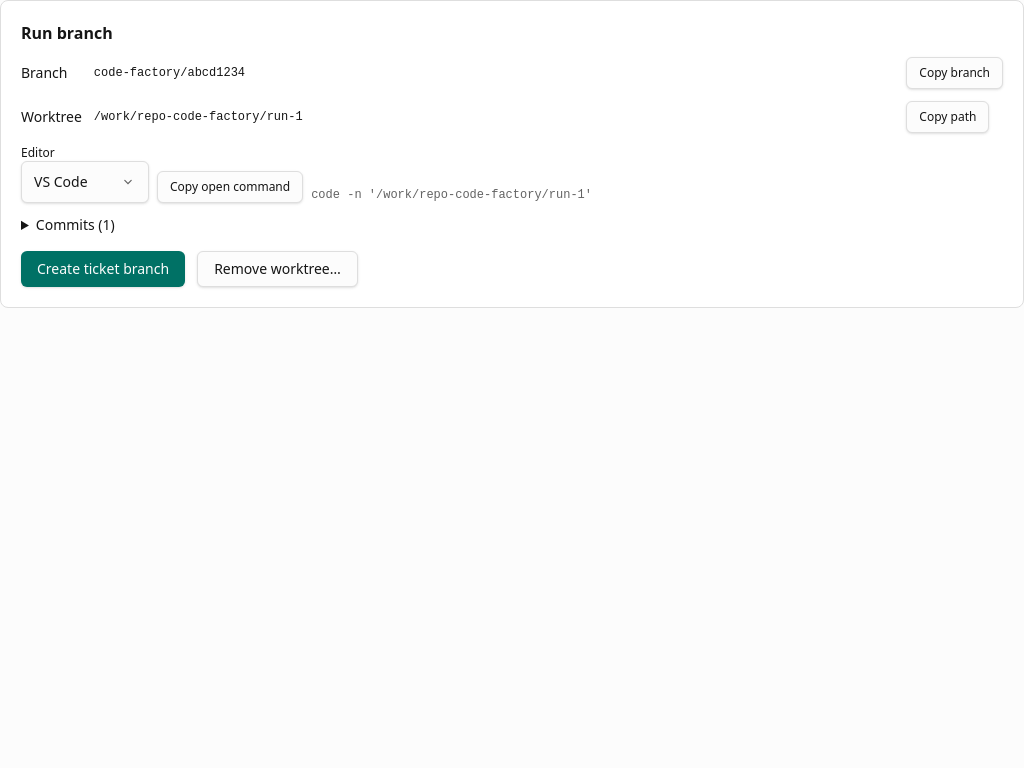
Test: run branch panel › keeps the remove dialog open and shows why when removal is refused
The width and height of the screenshot is (1024, 768).
What coordinates should you click on to do the following:
click the button "Remove worktree…"
I would click on:
 (277, 269)
Its box is [197, 251, 358, 287].
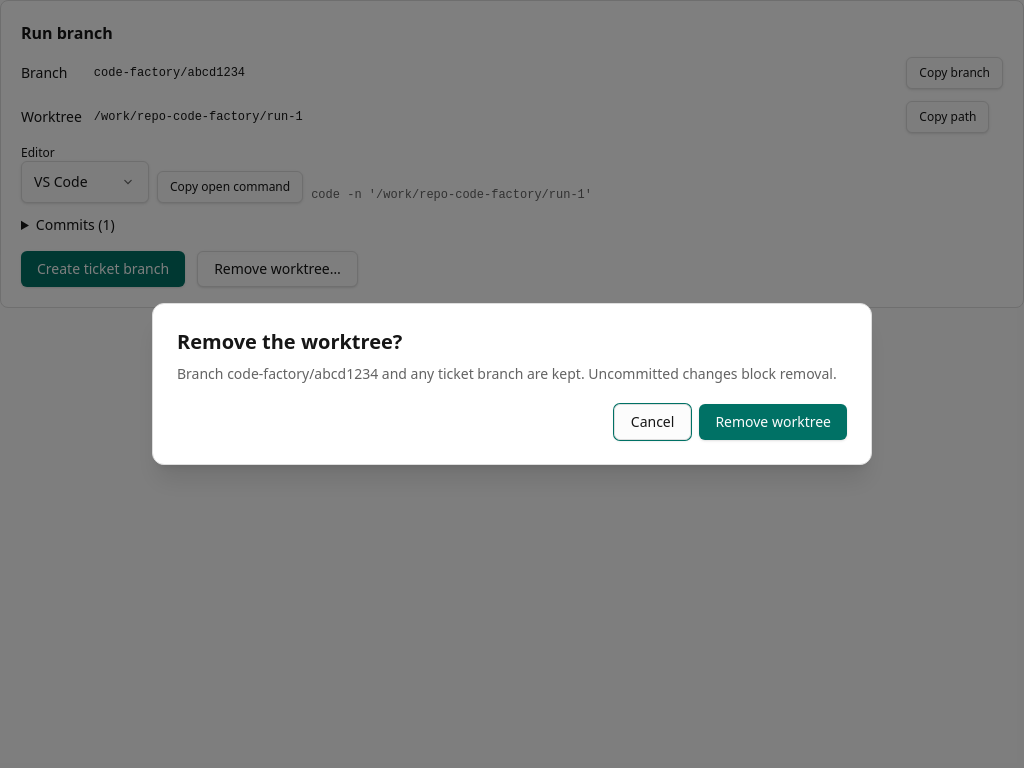
What coordinates should you click on to do the following:
click the button "Remove worktree"
I would click on:
 (773, 422)
Its box is [699, 404, 847, 440].
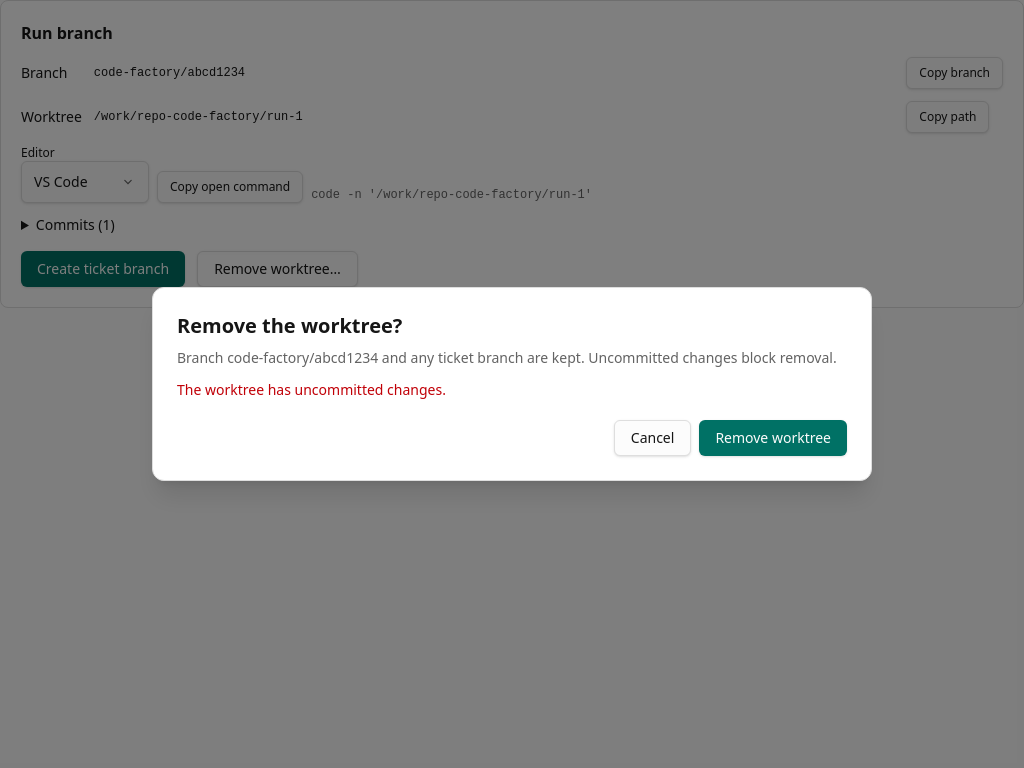
Now the button "Remove worktree" is shown, box [699, 420, 847, 456]
Now the message reads "The worktree has uncommitted changes.", box [177, 380, 446, 399]
